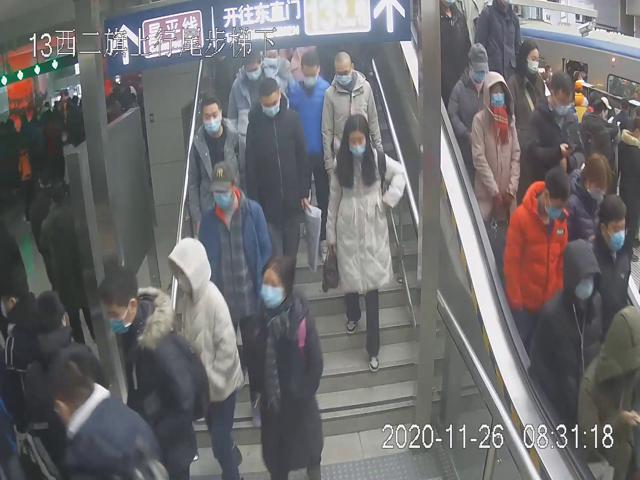person: (324, 113, 407, 372), (246, 248, 326, 480), (197, 157, 272, 367), (501, 164, 572, 362), (245, 76, 311, 278), (469, 67, 524, 262), (185, 94, 248, 239), (288, 50, 332, 248), (320, 48, 387, 176), (225, 52, 277, 129)
